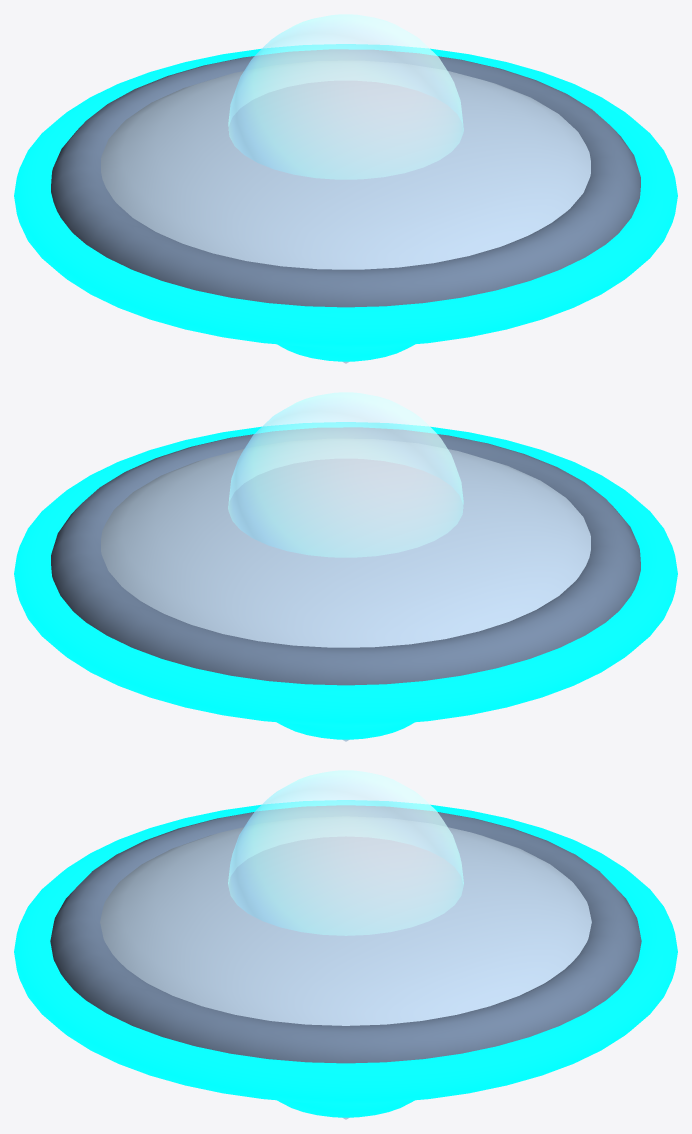
File: ufo.glb
3 views of the same model, one above another, from view 1: azimuth 30°, elevation 25°; view 2: azimuth 150°, elevation 25°; view 3: azimuth 270°, elevation 25° (orthographic).
Parts seen in each view (by area): view 1: ufoBody, spinRing; view 2: ufoBody, spinRing; view 3: ufoBody, spinRing.
Part boxes in pixels (bbox=[...]): ufoBody: bbox=[51, 14, 640, 363]; spinRing: bbox=[14, 44, 677, 347]; ufoBody: bbox=[51, 392, 640, 741]; spinRing: bbox=[14, 422, 677, 725]; ufoBody: bbox=[50, 770, 641, 1119]; spinRing: bbox=[14, 800, 677, 1103].
Size of the model in its own units: 0.394 by 0.2215 by 0.394.
